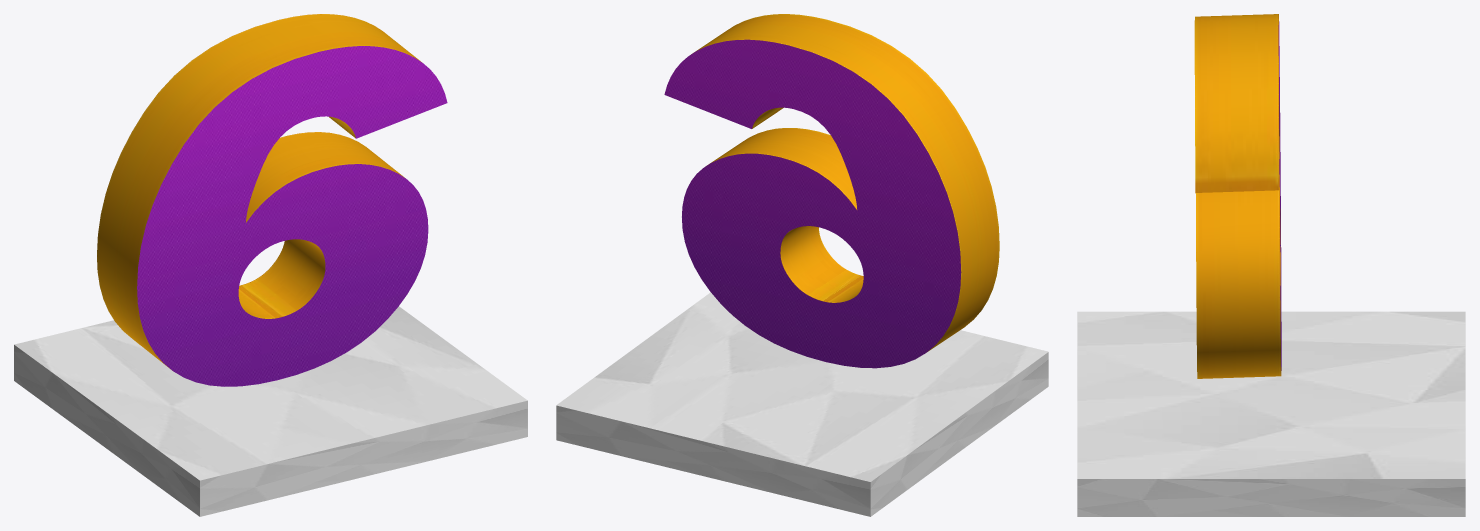
Rendered from SEIS.DAE.
The picture shows the model from 3 angles, left to right: view 1: azimuth 30°, elevation 25°; view 2: azimuth 150°, elevation 25°; view 3: azimuth 270°, elevation 25°; orthographic projection. The views are drawn at different scales.
Visible parts, largest first — view 1: Text001, Box001; view 2: Text001, Box001; view 3: Box001, Text001.
Part boxes in pixels (box(x1,y1,x2,y2)): Text001: box(97, 14, 447, 386); Box001: box(14, 306, 527, 516); Text001: box(664, 14, 999, 368); Box001: box(556, 292, 1048, 516); Box001: box(1077, 311, 1465, 516); Text001: box(1194, 14, 1281, 378).
Bounding box in the file's own units: 142 × 137 × 156.
3 materials, 3 textured.
